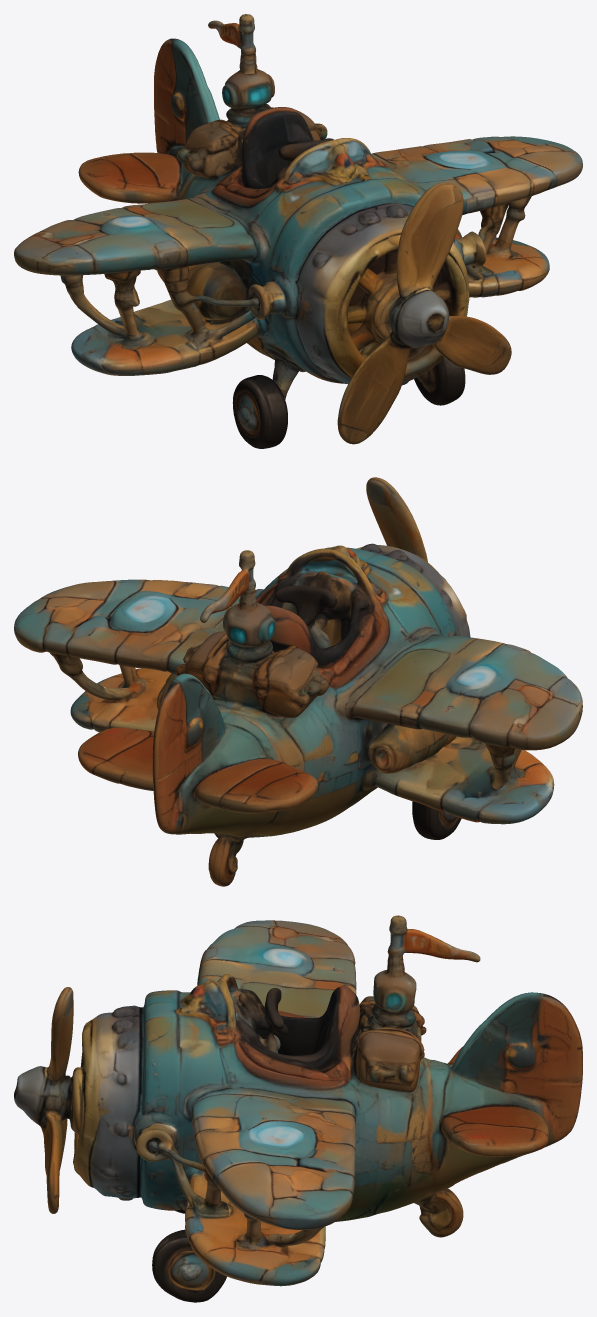
Rendered from wind-dasher-M-Copilot.glb.
3 renders of one model, top to bottom at view 1: azimuth 30°, elevation 25°; view 2: azimuth 150°, elevation 25°; view 3: azimuth 270°, elevation 25°, orthographic.
Visible parts, largest first — view 1: world; view 2: world; view 3: world.
Boxes of the visible parts, <box> form: world: <box>14,14,582,448</box>; world: <box>14,477,582,886</box>; world: <box>14,915,582,1302</box>.
Bounding box in the file's own units: 1 × 0.5842 × 0.8893.
Materials: 1 (1 with a texture image).
